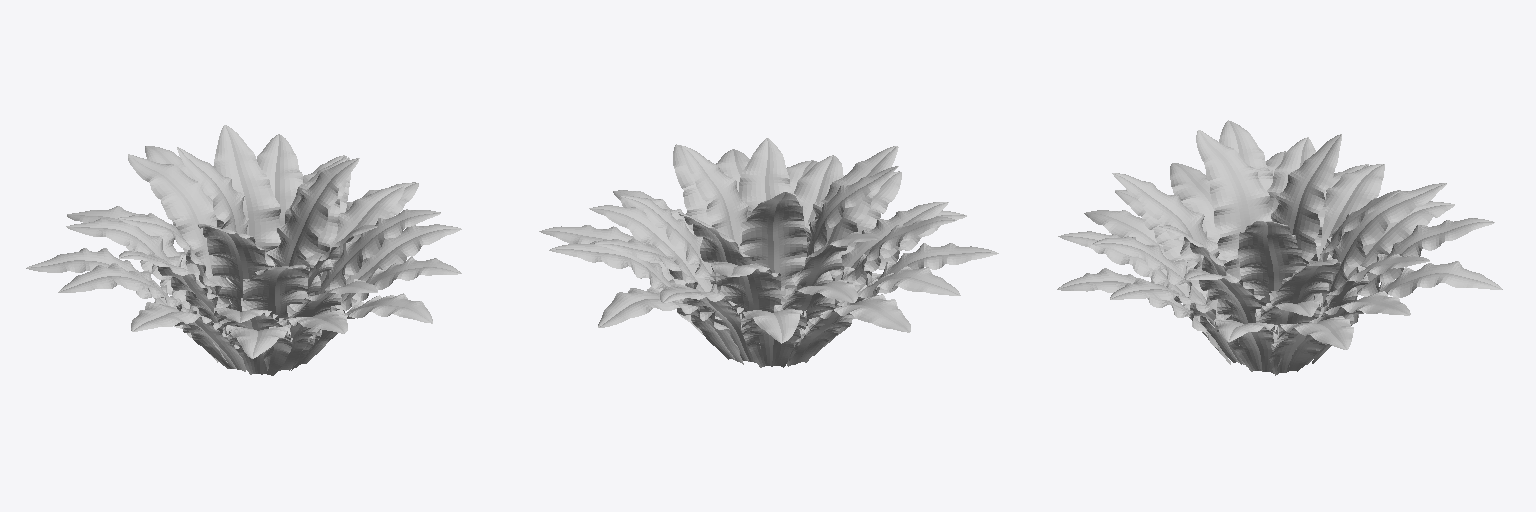
File: matteucia_struthiopteris_1.obj
The picture shows the model from 3 angles: view 1: azimuth 30°, elevation 25°; view 2: azimuth 150°, elevation 25°; view 3: azimuth 270°, elevation 25°; orthographic projection.
Parts seen in each view (by area): view 1: Matteuccia_struthiopteris__C001; view 2: Matteuccia_struthiopteris__C001; view 3: Matteuccia_struthiopteris__C001.
Part boxes in pixels (bbox=[...]): Matteuccia_struthiopteris__C001: bbox=[26, 125, 461, 375]; Matteuccia_struthiopteris__C001: bbox=[539, 138, 998, 367]; Matteuccia_struthiopteris__C001: bbox=[1057, 120, 1502, 375].
Bounding box in the file's own units: 14.65 × 7.06 × 14.47.